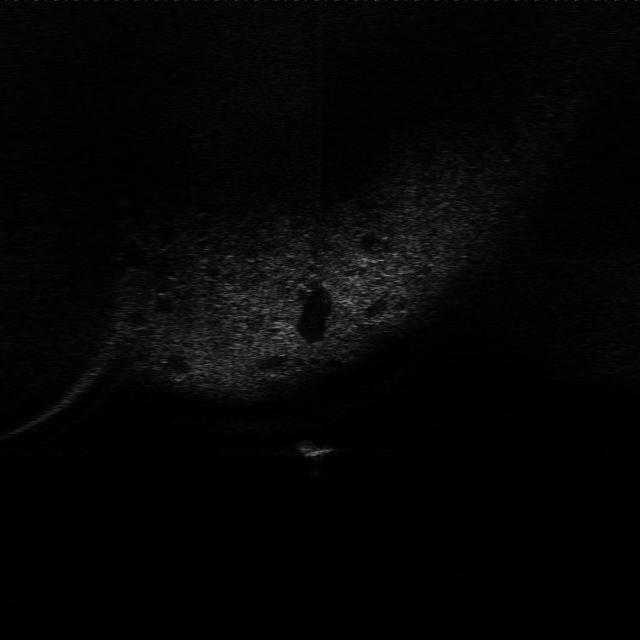cube: (293, 428, 339, 462)
